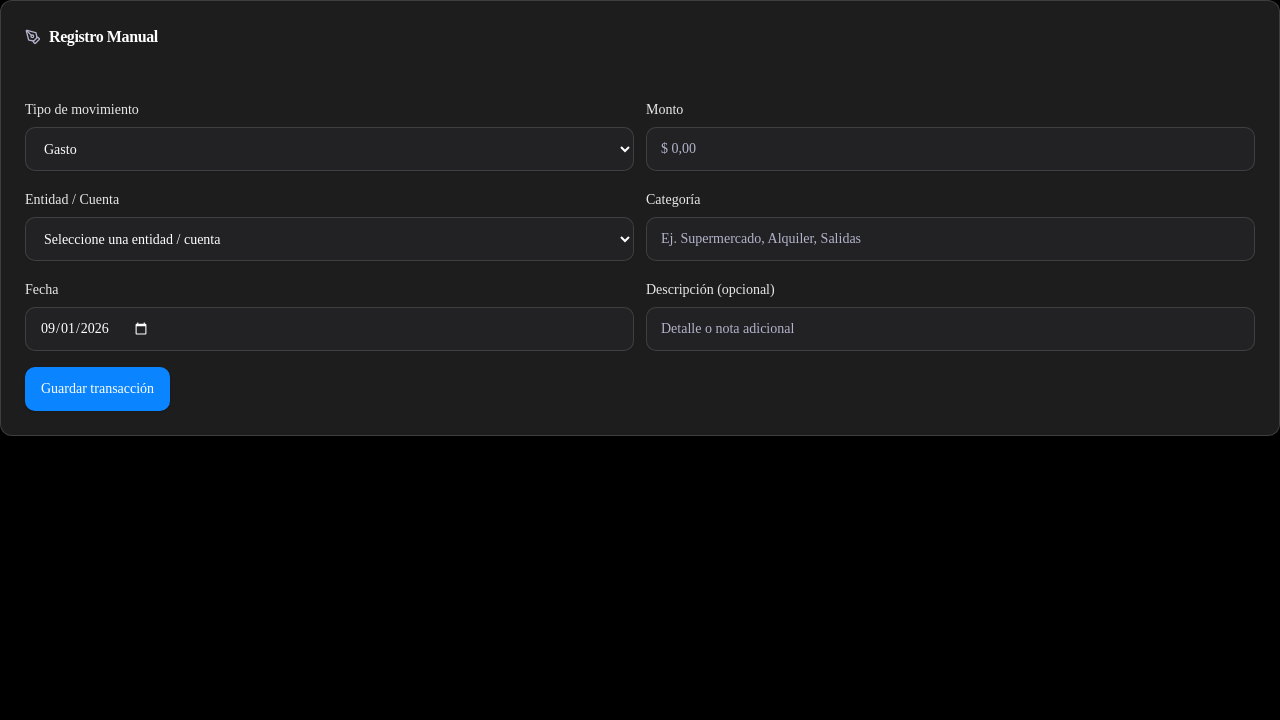
Scenario: ManualTransactionForm › validates invalid amount and prevents fetch submission
Type "-50" into the field labelled "Monto" at (950,149), box [646,127,1255,171]
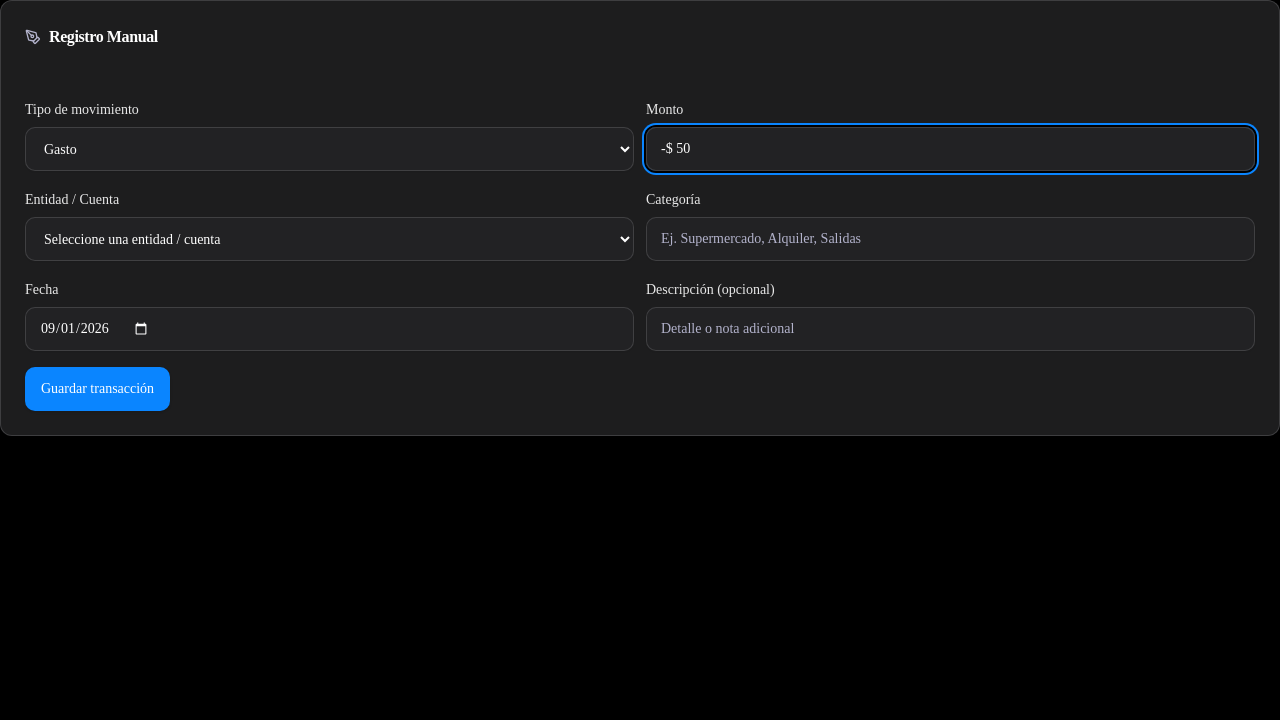
Select "Banco Galicia" in the dropdown labelled "Entidad / Cuenta" at (330,239), box [25,217,634,261]
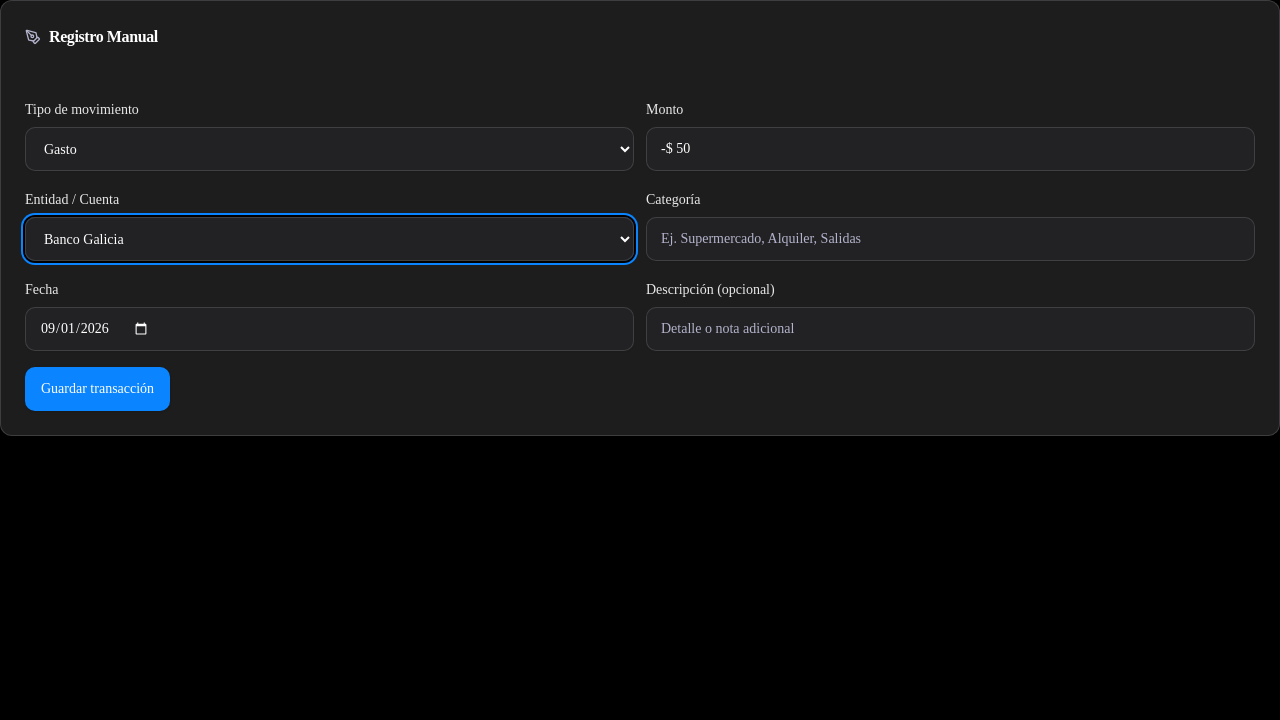
Type "Super" into the field labelled "Categoría" at (950,239), box [646,217,1255,261]
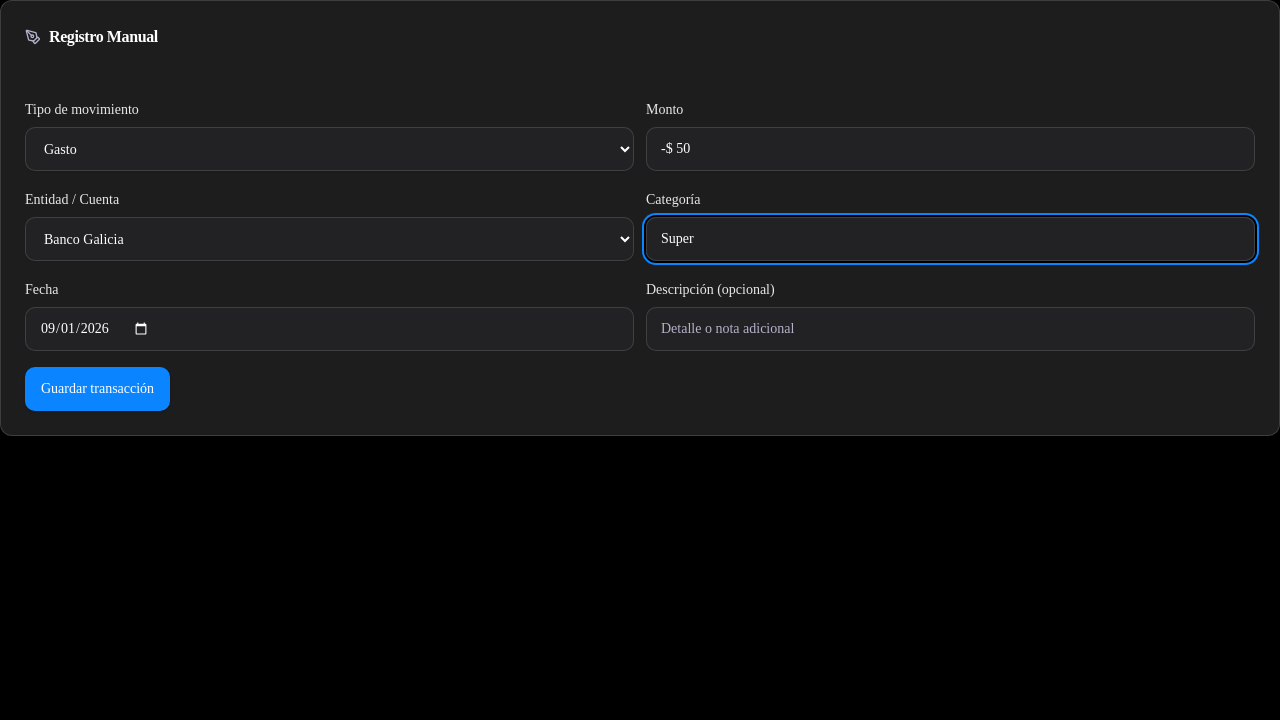
Click the button "Guardar transacción" at (98,389), box [25,367,170,411]
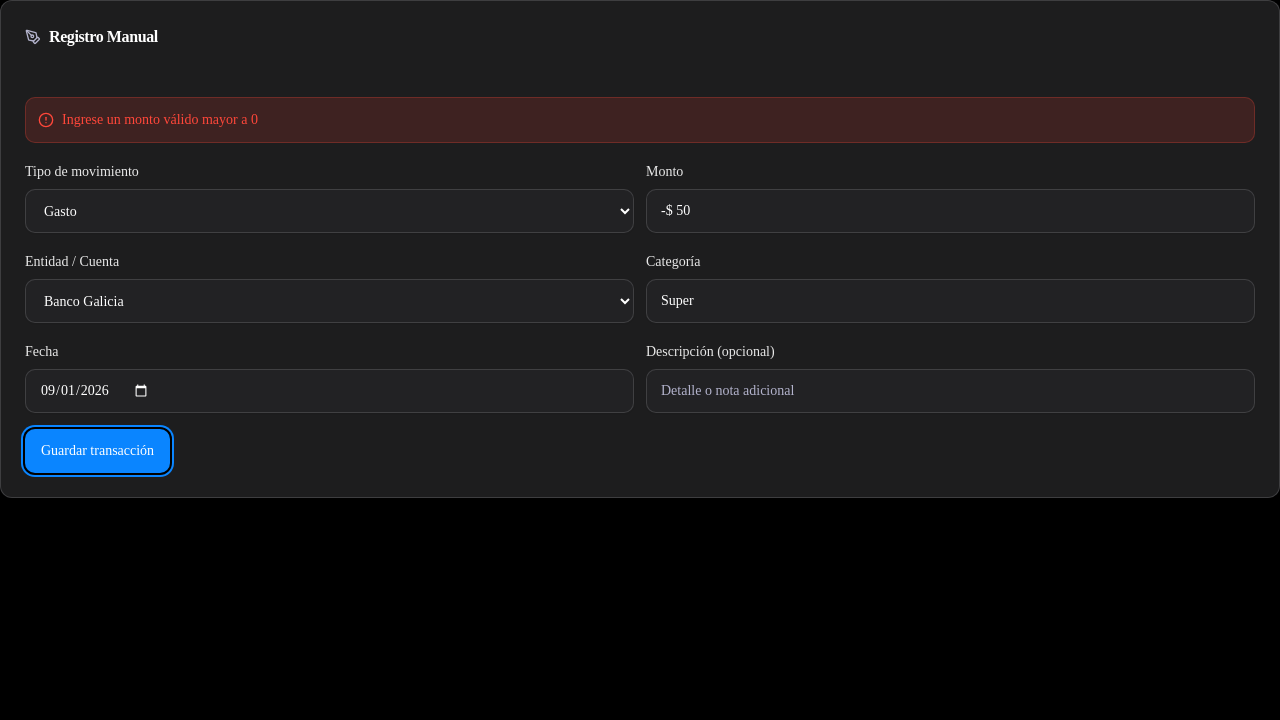
Now the message shows "monto válido mayor a 0", box [62,112,258,127]
